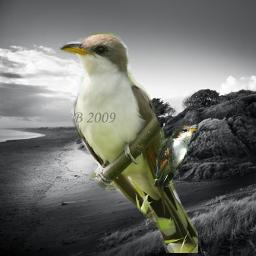Cuckoo: (59, 31, 198, 253), (154, 125, 199, 187)
